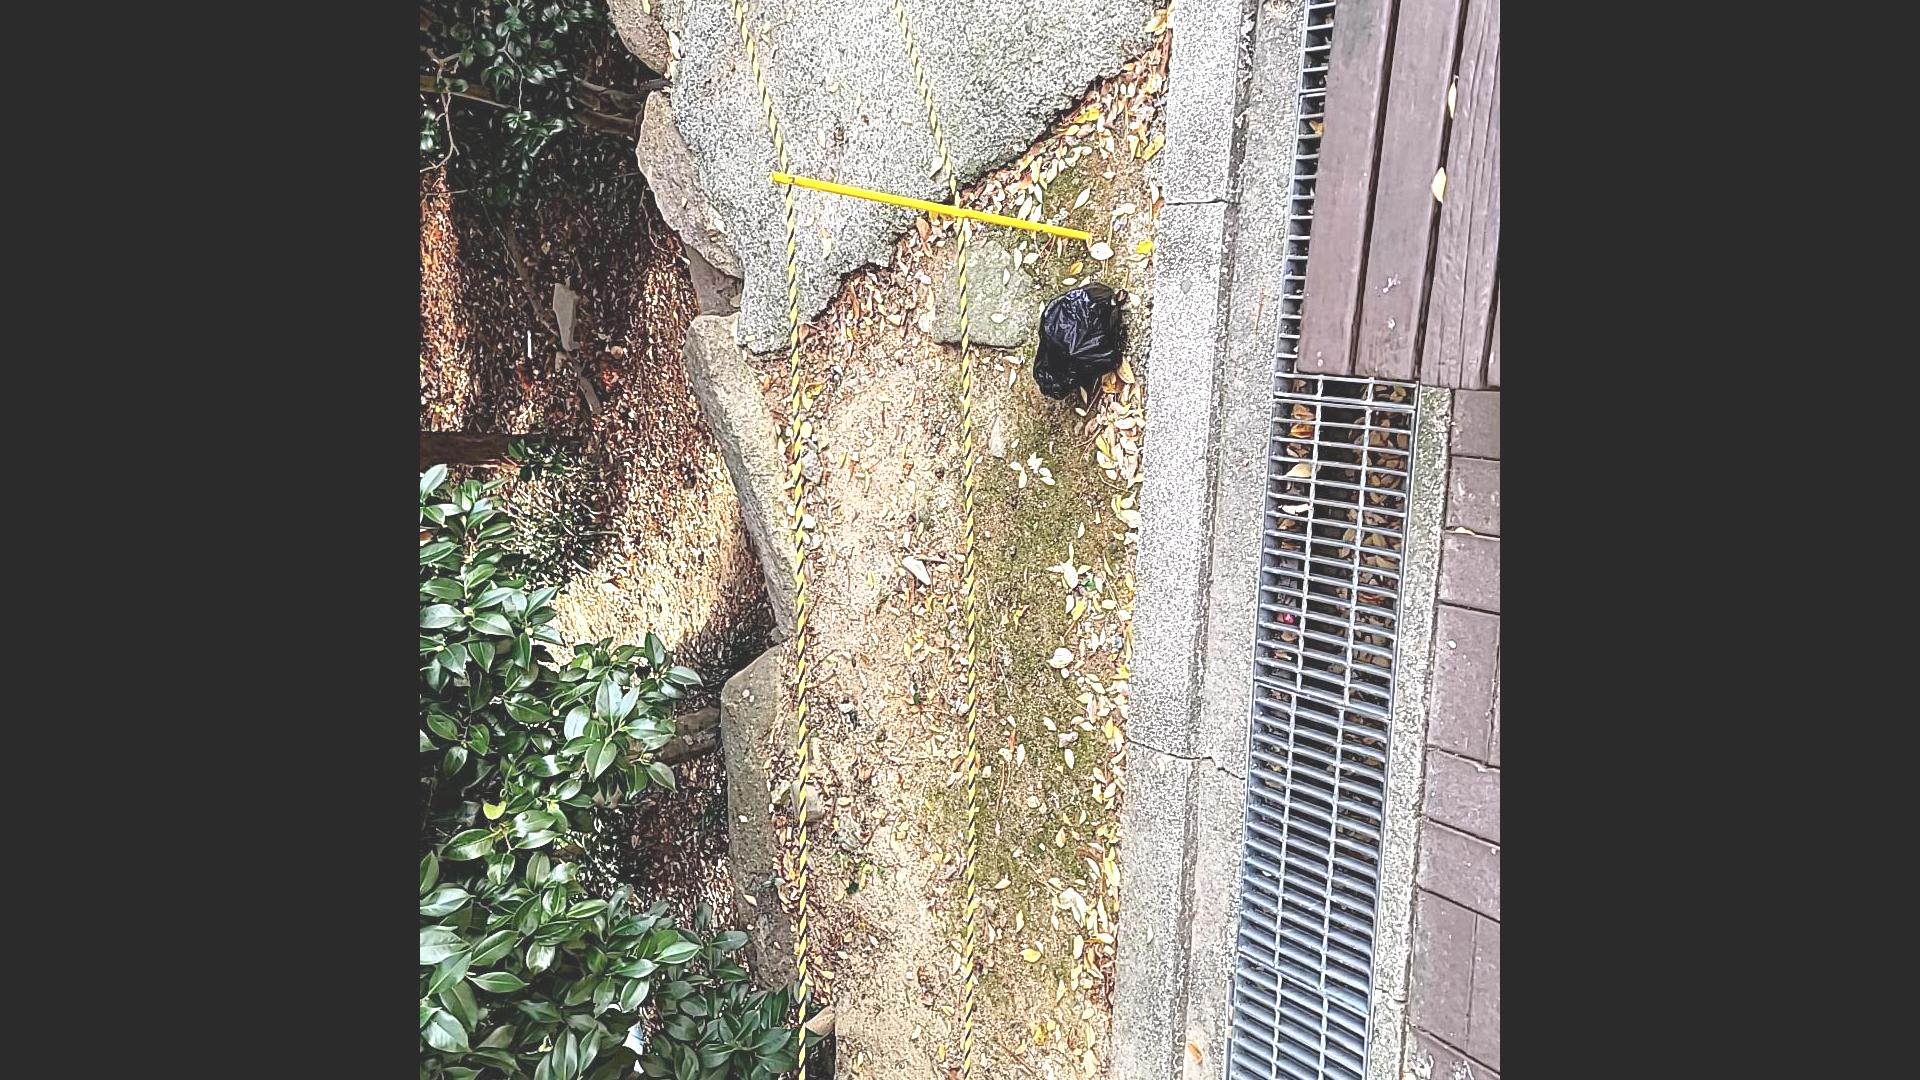black_bag: (1023, 274, 1131, 400)
